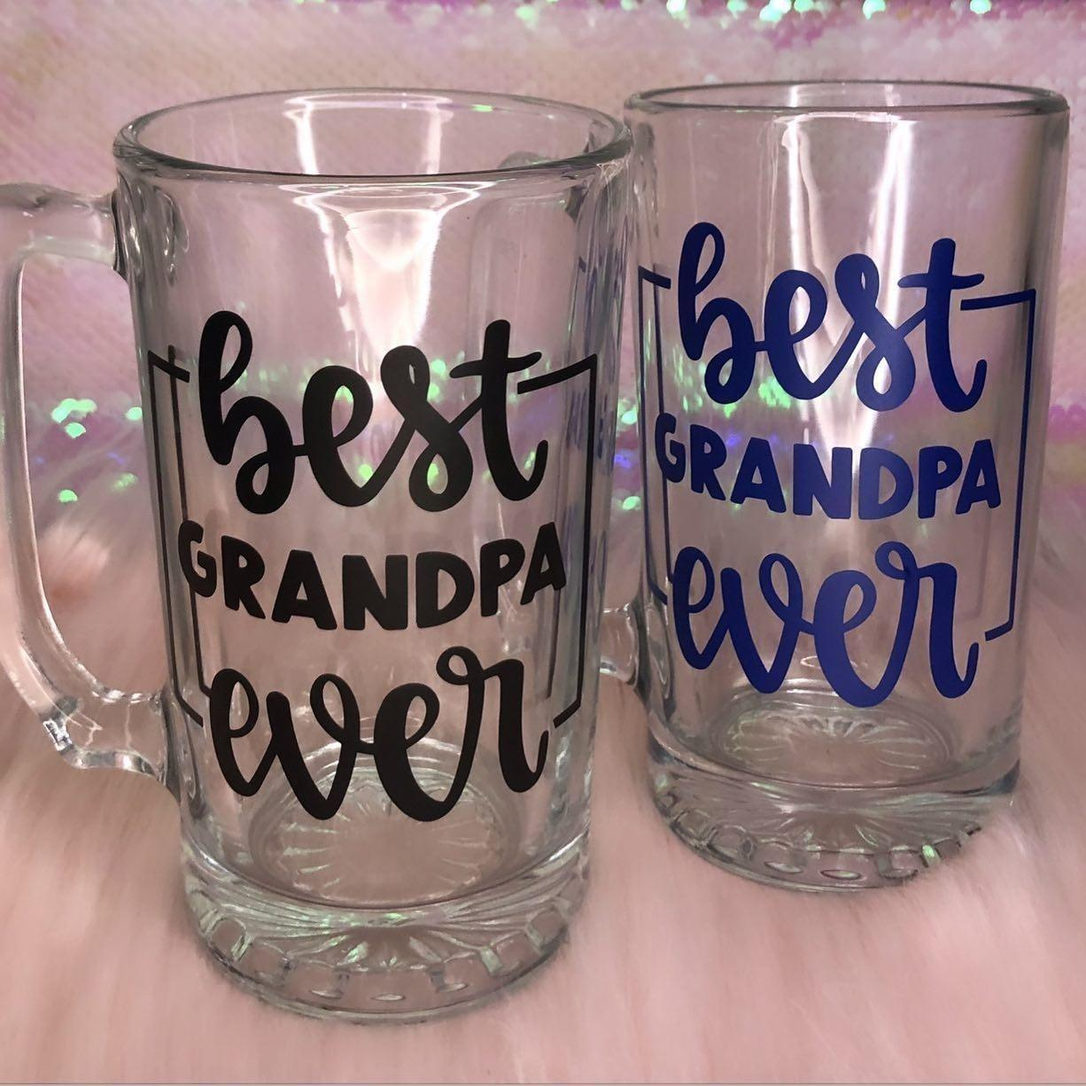glass-mug: (0, 74, 634, 1036), (561, 54, 1083, 906)
